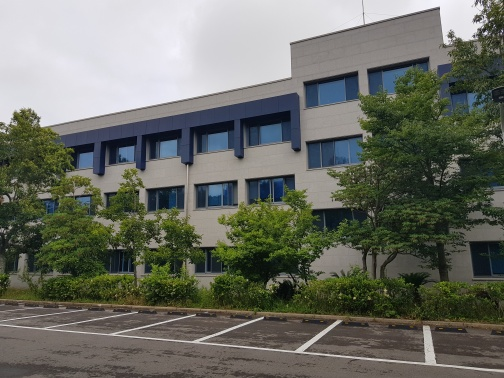College of Social Sciences: (32, 25, 497, 302), (90, 85, 304, 181)
